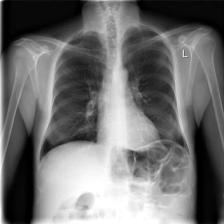normal: (33, 19, 194, 172)
